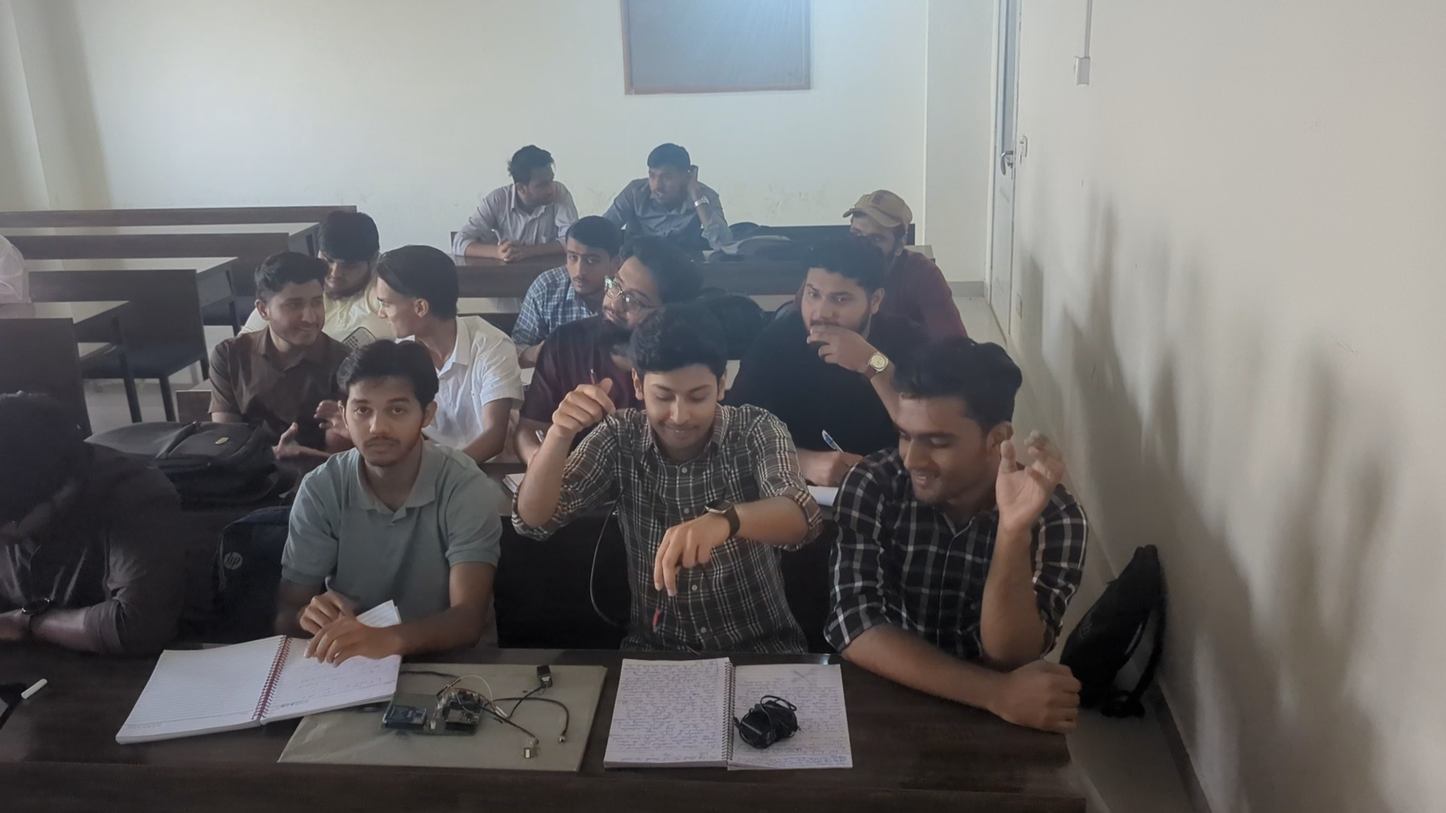handrise: (825, 320, 1093, 737), (521, 322, 830, 624)
look_forward: (274, 347, 511, 664), (742, 246, 924, 415), (844, 183, 978, 338), (594, 139, 736, 246), (579, 246, 699, 358), (524, 220, 616, 310)
read: (2, 389, 192, 662)
turn_head: (197, 255, 355, 409), (369, 242, 523, 371)
write: (451, 140, 585, 266), (309, 208, 383, 302)
